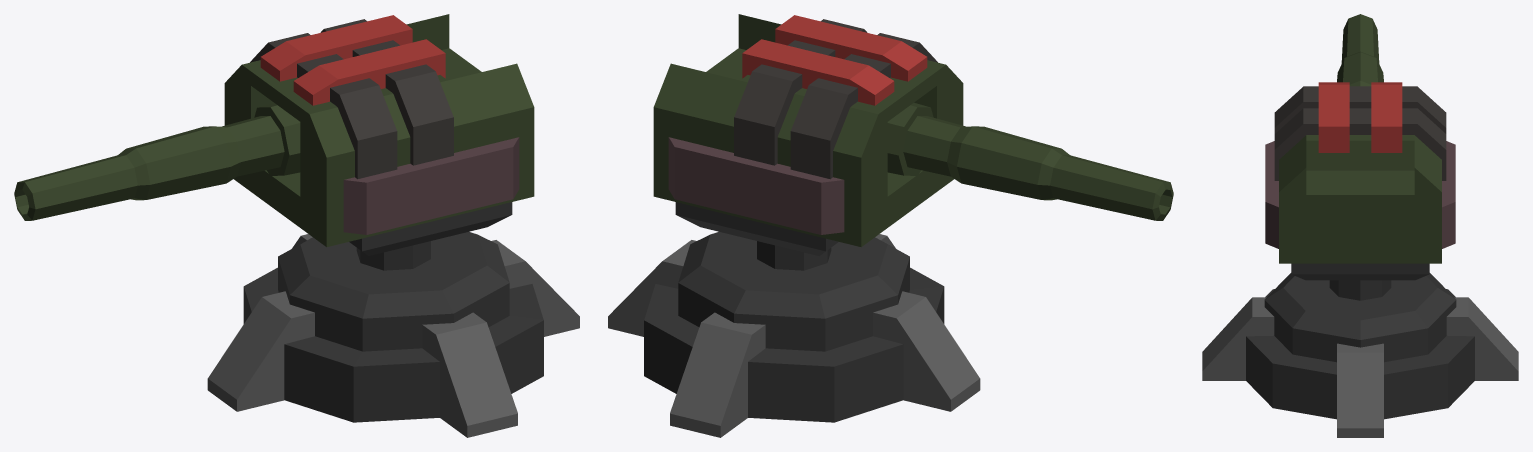
File: Havy Tower.fbx
The picture shows the model from 3 angles, left to right: view 1: azimuth 30°, elevation 25°; view 2: azimuth 150°, elevation 25°; view 3: azimuth 270°, elevation 25°; orthographic projection. The views are drawn at different scales.
Visible parts, largest first — view 1: Head, Body; view 2: Head, Body; view 3: Head, Body.
Boxes of the visible parts, box(x1,y1,x2,y2) form: Head: box(14, 14, 534, 255); Body: box(207, 232, 579, 437); Head: box(653, 14, 1173, 255); Body: box(608, 232, 980, 437); Head: box(1265, 14, 1455, 280); Body: box(1202, 273, 1518, 437).
Size of the model in its own units: 724 by 406 by 457.
